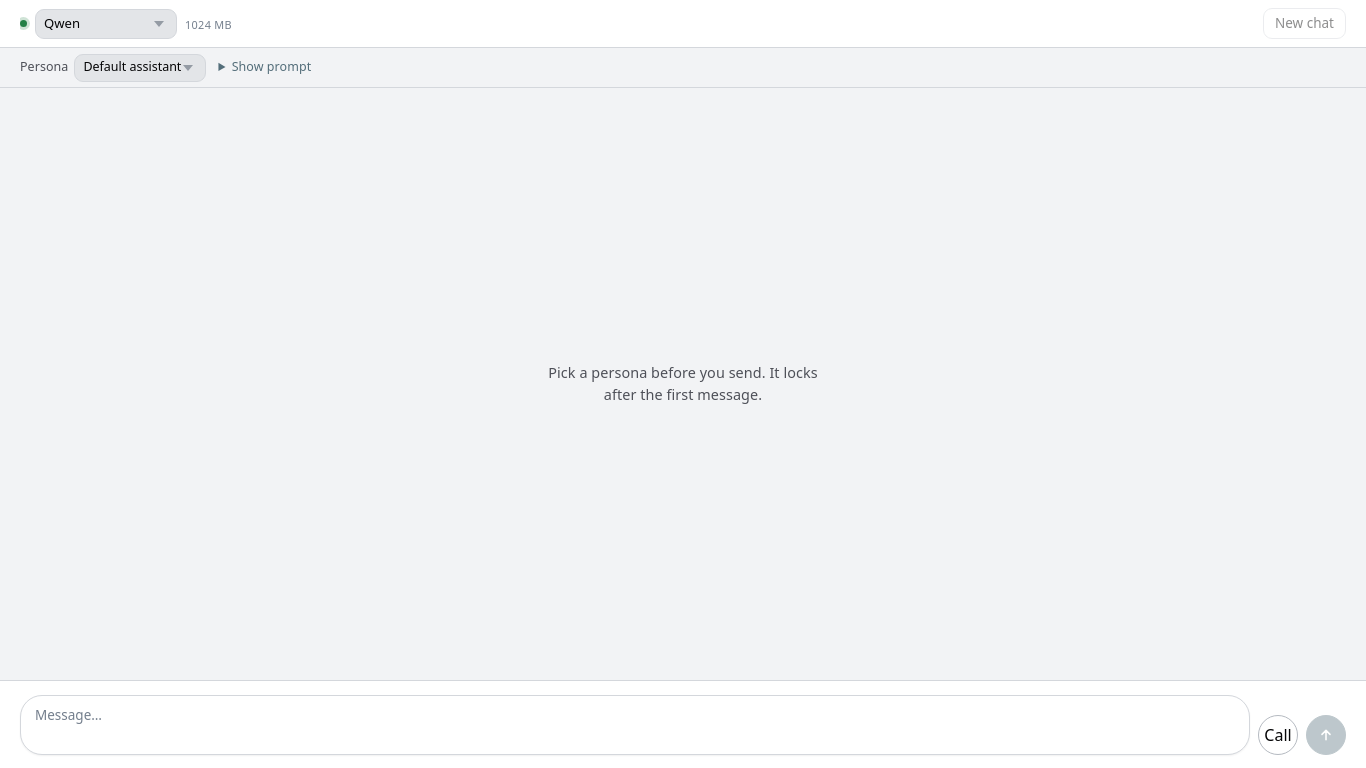
Test case: ChatVoice › "Show prompt" fetches the assembled prompt
Click the heading "Show prompt". click: point(265, 68)
box: [218, 58, 311, 77]
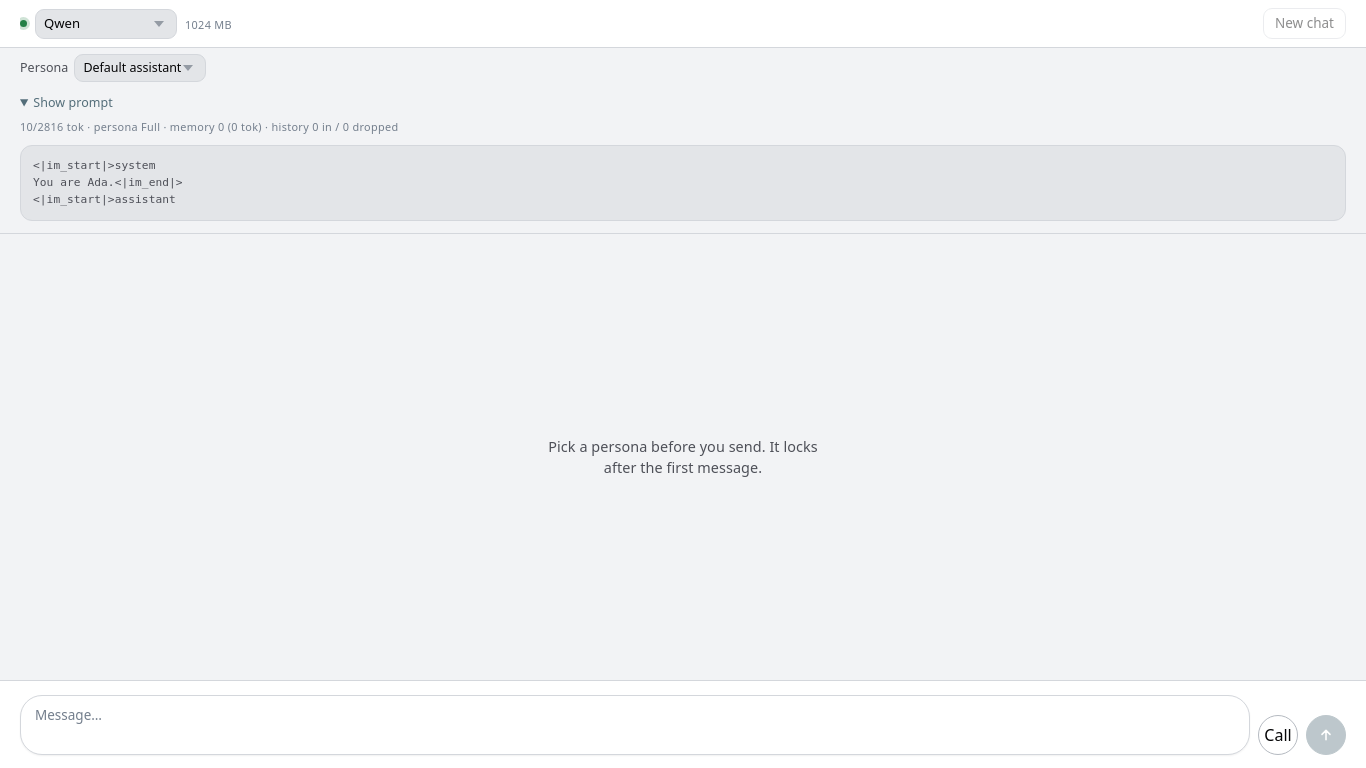
Result: the text "You are Ada." is shown at [33, 159, 183, 206]
